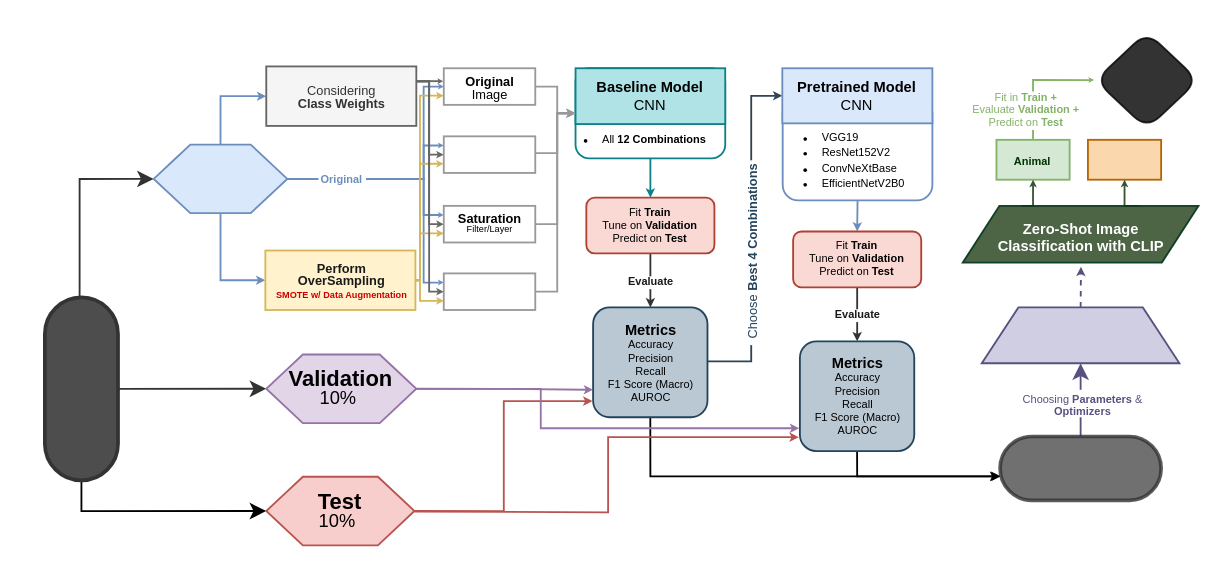
The diagram is 1232 pixels wide and 582 high, and some of its shapes have lost their labels. Each missing label, with the box of its shape:
Best Model ConvNeXtBase (w/ SMOTE &Original): (997, 434, 1162, 501)
Contrast Filter /Layer: (442, 272, 535, 310)
Final Model: (1093, 30, 1198, 129)
Grayscale: (442, 135, 535, 173)
GridSearch with Keras: (980, 306, 1179, 363)
Not Animal: (1086, 138, 1161, 180)
RareSpecies Dataset Original: (42, 295, 119, 481)
Train 80%: (152, 143, 287, 213)
